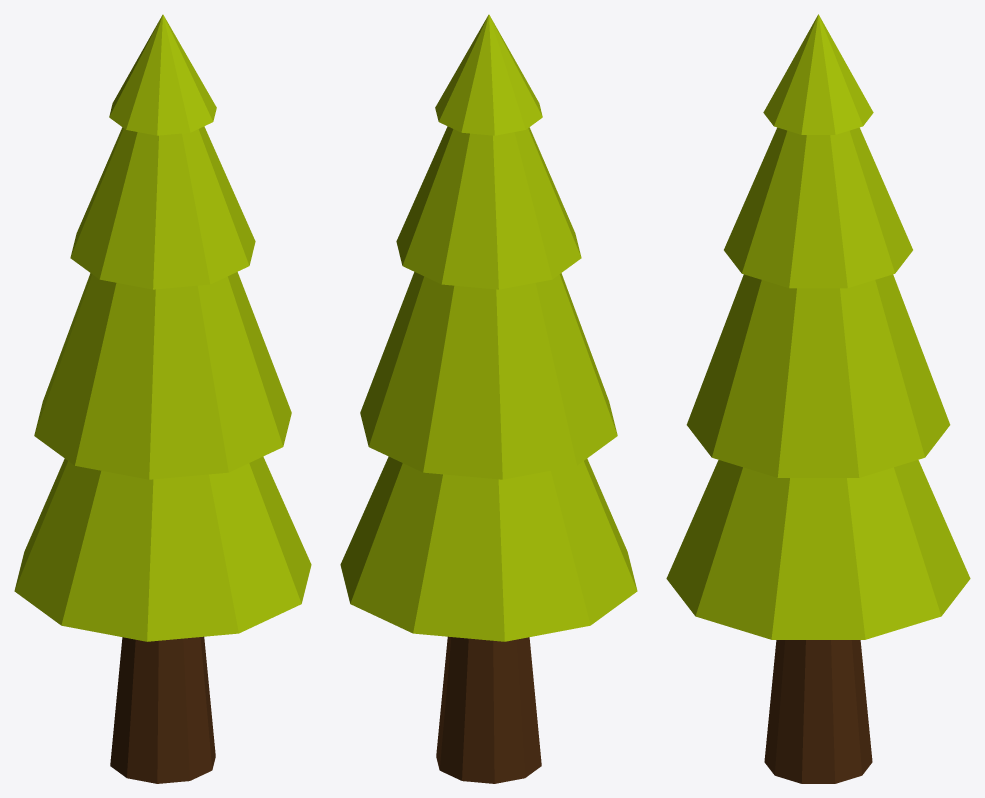
Rendered from Tall_Pine_001.fbx.
3 views of the same model, side by side, from view 1: azimuth 30°, elevation 25°; view 2: azimuth 150°, elevation 25°; view 3: azimuth 270°, elevation 25° (orthographic).
Visible parts, largest first — view 1: Tall Pine.001; view 2: Tall Pine.001; view 3: Tall Pine.001.
Part boxes in pixels (x1=…): Tall Pine.001: x1=14, y1=14, x2=311, y2=783; Tall Pine.001: x1=340, y1=14, x2=637, y2=783; Tall Pine.001: x1=666, y1=14, x2=970, y2=783.
Size of the model in its own units: 165 by 471 by 173.
